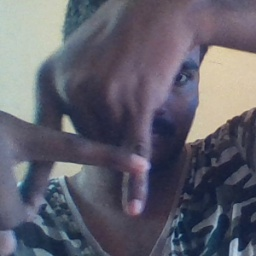H: (10, 75, 158, 218)
